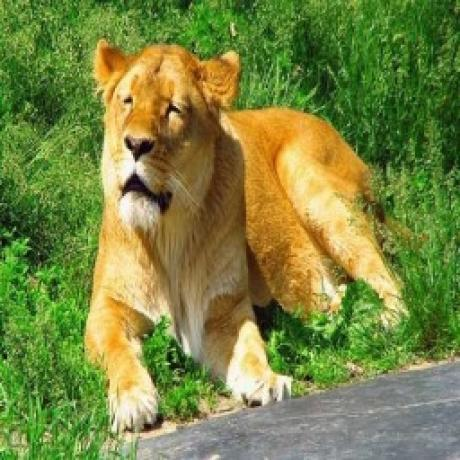Lion: (80, 30, 414, 426)
